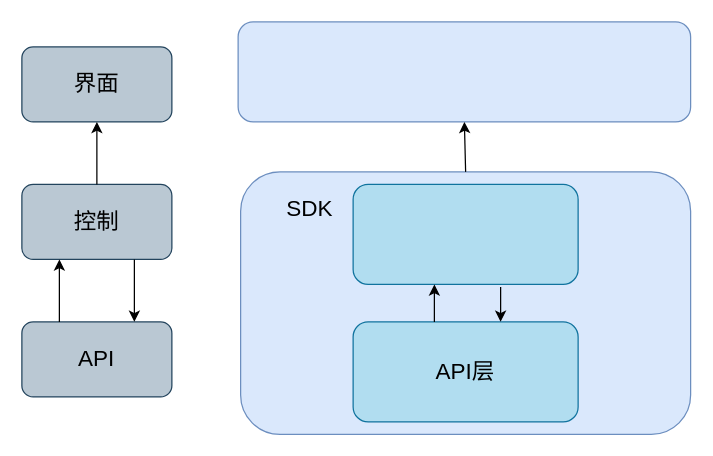
The diagram is 713 pixels wide and 456 high, and some of its shapes have lost their labels. Each missing label, with the centre of its shape:
UI组件层: pixel 465 233
界面绘制: pixel 464 71
